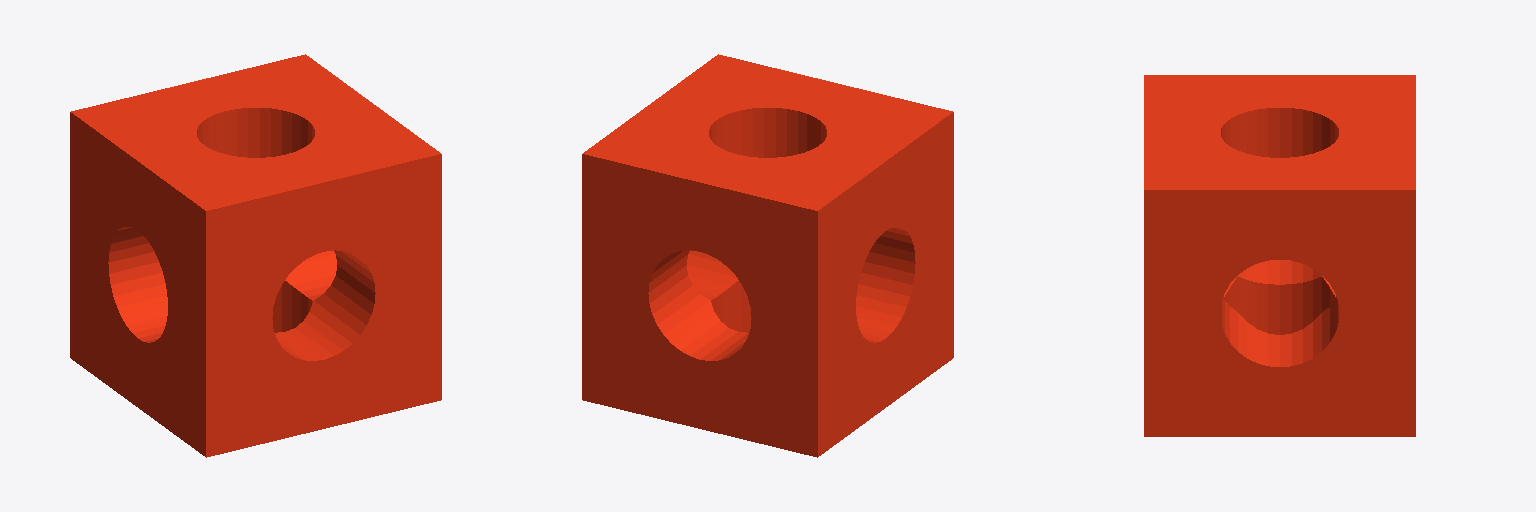
The model's file is Holzwuerfel1.obj.
The picture shows the model from 3 angles: view 1: azimuth 30°, elevation 25°; view 2: azimuth 150°, elevation 25°; view 3: azimuth 270°, elevation 25°; orthographic projection.
Visible parts, largest first — view 1: Holzwürfel.001_Cube.020; view 2: Holzwürfel.001_Cube.020; view 3: Holzwürfel.001_Cube.020.
Boxes of the visible parts, x1=… form: Holzwürfel.001_Cube.020: x1=70, y1=54, x2=441, y2=457; Holzwürfel.001_Cube.020: x1=582, y1=54, x2=953, y2=457; Holzwürfel.001_Cube.020: x1=1144, y1=75, x2=1415, y2=436.
Bounding box in the file's own units: 0.5332 × 0.5332 × 0.5332.